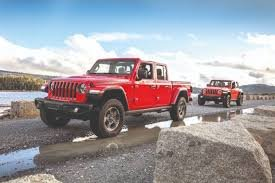mobil: (42, 58, 189, 132), (197, 79, 244, 107)
